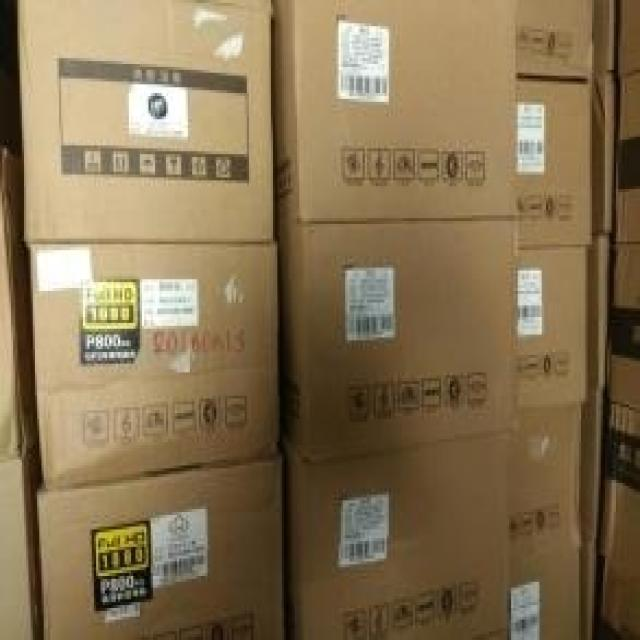box: (17, 0, 273, 241), (28, 244, 277, 489), (280, 221, 518, 463), (271, 0, 518, 221), (284, 433, 511, 640), (39, 457, 284, 640), (518, 79, 592, 247), (515, 247, 588, 407), (509, 404, 579, 564), (601, 404, 640, 634), (0, 151, 24, 460), (509, 538, 579, 640), (515, 0, 594, 79), (0, 460, 33, 640), (609, 244, 640, 410), (614, 73, 640, 241), (581, 390, 598, 535), (592, 76, 607, 233), (588, 239, 603, 387), (618, 3, 640, 76), (579, 535, 594, 640), (594, 3, 614, 73)
